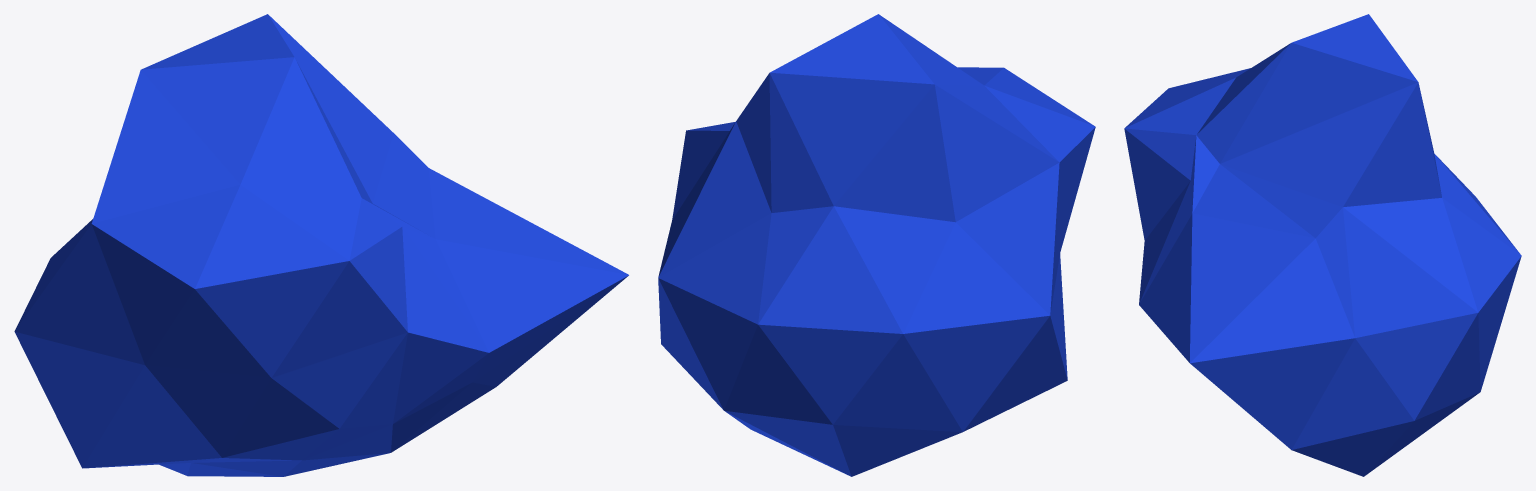
The model's file is rock2.fbx.
The picture shows the model from 3 angles, left to right: view 1: azimuth 30°, elevation 25°; view 2: azimuth 150°, elevation 25°; view 3: azimuth 270°, elevation 25°; orthographic projection. The views are drawn at different scales.
Visible parts, largest first — view 1: Икосфера.002; view 2: Икосфера.002; view 3: Икосфера.002.
Boxes of the visible parts, bbox=[...] form: Икосфера.002: bbox=[14, 14, 628, 476]; Икосфера.002: bbox=[658, 14, 1095, 476]; Икосфера.002: bbox=[1124, 14, 1521, 476].
Size of the model in its own units: 216 by 185 by 170.
